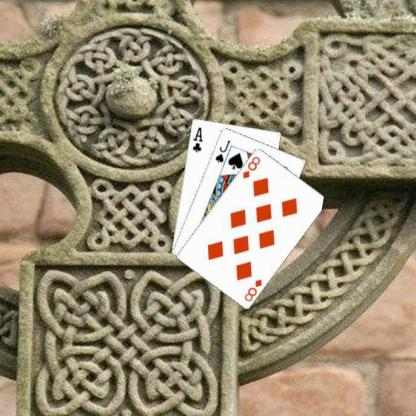8D: (242, 276, 264, 303), (240, 154, 262, 180)
AC: (189, 124, 204, 154)
JS: (212, 137, 232, 164)
